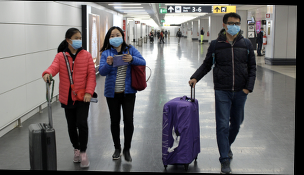with_mask: (107, 33, 123, 49), (224, 20, 240, 36), (68, 34, 82, 50), (260, 28, 264, 34), (177, 28, 180, 32), (157, 30, 160, 33), (157, 30, 159, 33), (164, 29, 166, 31), (167, 30, 169, 32), (150, 31, 151, 33)
without_mask: (201, 27, 203, 31)
